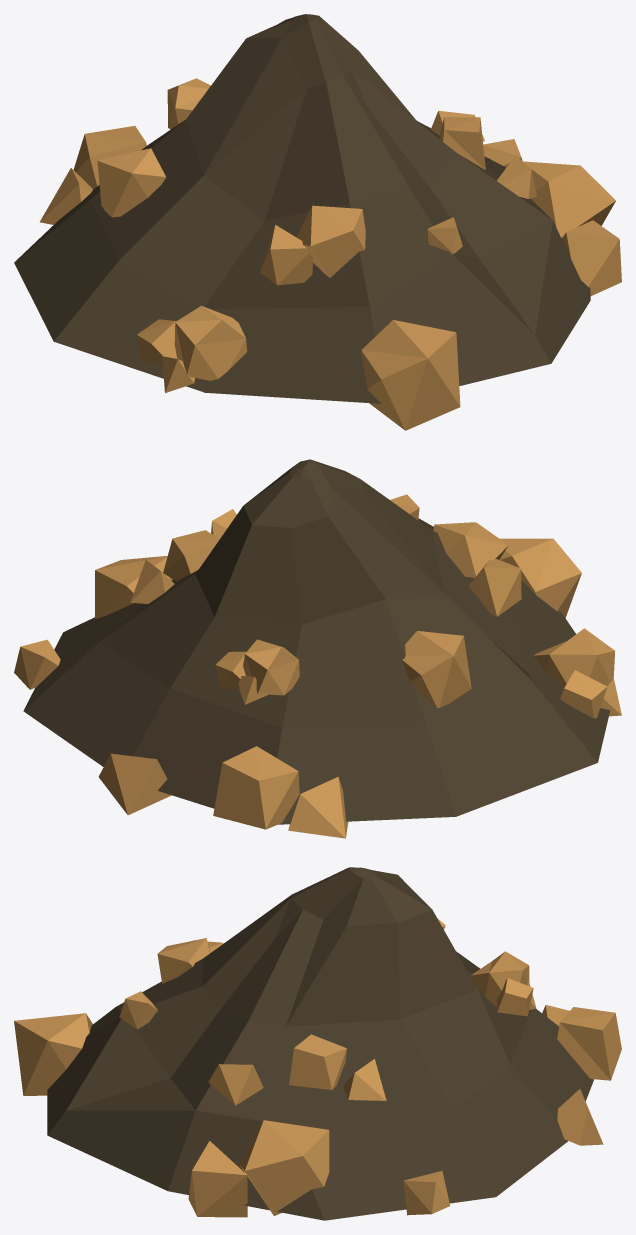
File: CopperOreEditedCW.fbx
3 views of the same model, one above another, from view 1: azimuth 30°, elevation 25°; view 2: azimuth 150°, elevation 25°; view 3: azimuth 270°, elevation 25° (orthographic). The views are drawn at different scales.
Parts seen in each view (by area): view 1: SM_Prop_Ore_Gold_01; view 2: SM_Prop_Ore_Gold_01; view 3: SM_Prop_Ore_Gold_01.
Boxes of the visible parts, <box> form: SM_Prop_Ore_Gold_01: <box>14,14,621,430</box>; SM_Prop_Ore_Gold_01: <box>14,459,621,838</box>; SM_Prop_Ore_Gold_01: <box>14,867,621,1220</box>.
Size of the model in its own units: 19.3 by 9.27 by 20.12.
1 material, 1 textured.
